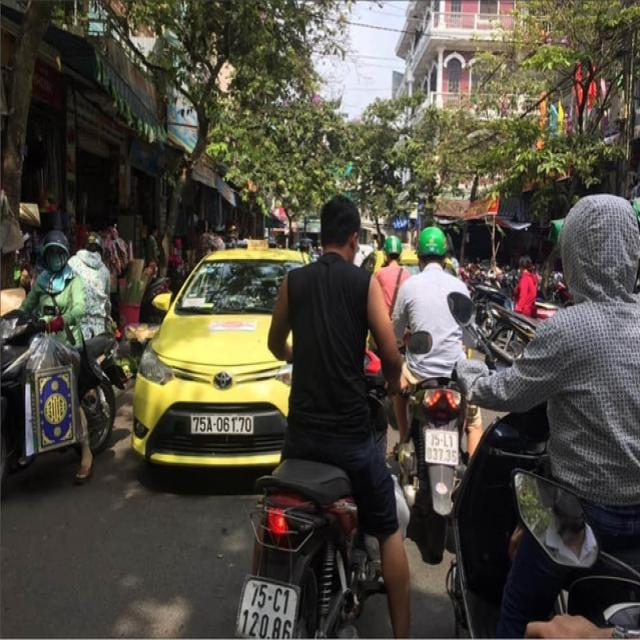Face and Hair: (310, 185, 369, 269)
